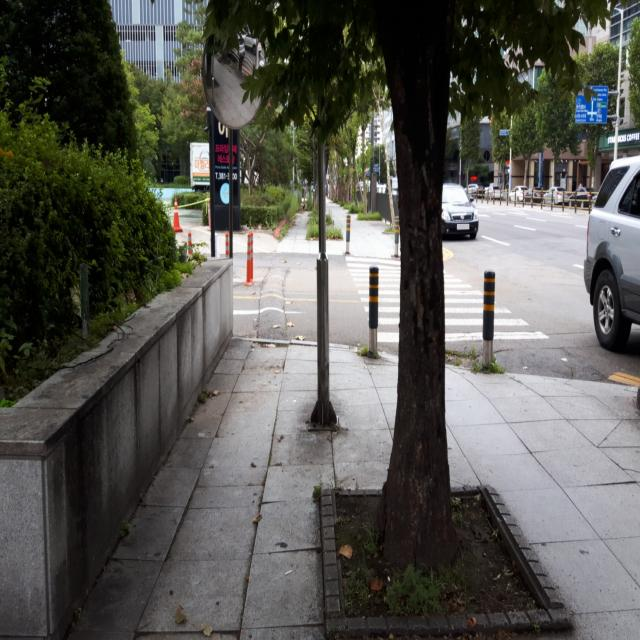횡단보도: (344, 254, 551, 345)
